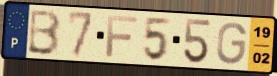5: (182, 16, 213, 65), (142, 15, 173, 62)
7: (66, 9, 94, 60)
B: (25, 8, 62, 57)
F: (104, 14, 140, 59)
G: (215, 21, 249, 66)
